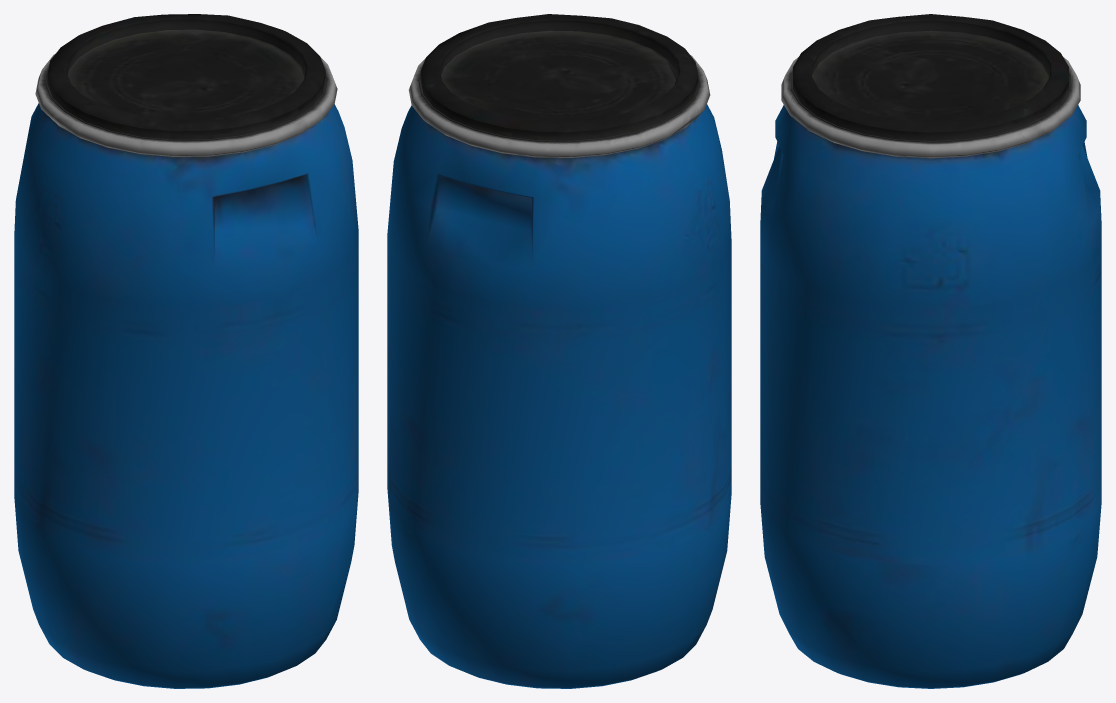
File: Barrel_02.glb
3 views of the same model, side by side, from view 1: azimuth 30°, elevation 25°; view 2: azimuth 150°, elevation 25°; view 3: azimuth 270°, elevation 25° (orthographic).
Parts seen in each view (by area): view 1: Barrel_02; view 2: Barrel_02; view 3: Barrel_02.
Part boxes in pixels (x1=…): Barrel_02: x1=14, y1=14, x2=358, y2=688; Barrel_02: x1=387, y1=14, x2=731, y2=688; Barrel_02: x1=760, y1=14, x2=1101, y2=688.
Bounding box in the file's own units: 0.4882 × 0.88 × 0.4846.
1 material, 1 textured.
